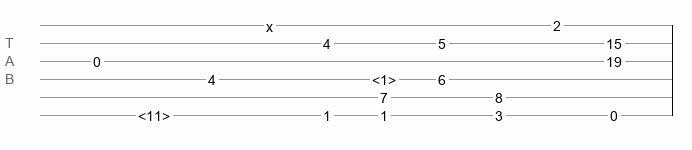0: (93, 54, 101, 64), (610, 108, 618, 118)
1: (323, 108, 331, 118), (380, 108, 388, 118)
15: (606, 36, 622, 46)
19: (606, 54, 622, 64)
2: (553, 18, 561, 28)
3: (495, 108, 503, 118)
4: (208, 72, 216, 82), (323, 36, 331, 46)
5: (438, 36, 446, 46)
6: (438, 72, 446, 82)
7: (380, 90, 388, 100)
8: (495, 90, 503, 100)
harmonic: (138, 108, 170, 118), (372, 72, 396, 82)
x: (266, 19, 273, 27)
